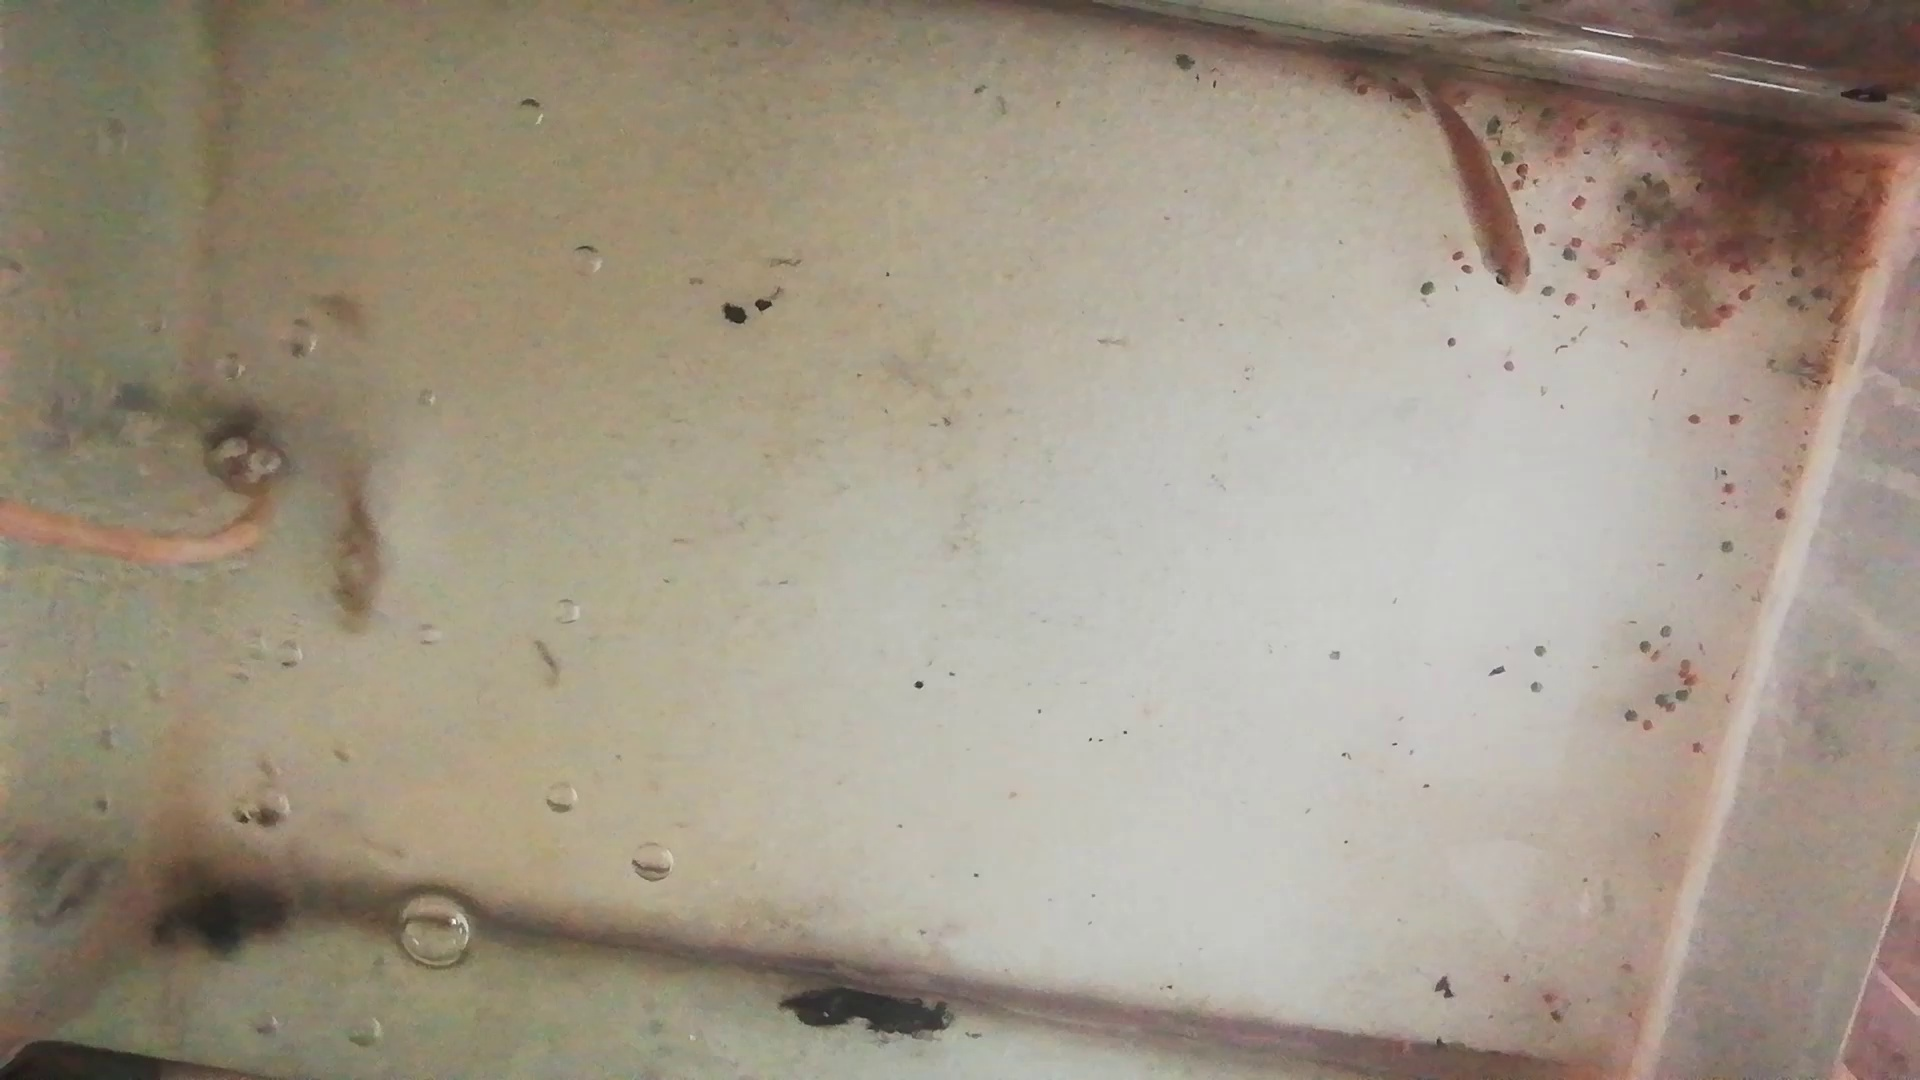fish: (1422, 84, 1532, 287), (334, 462, 386, 646)
